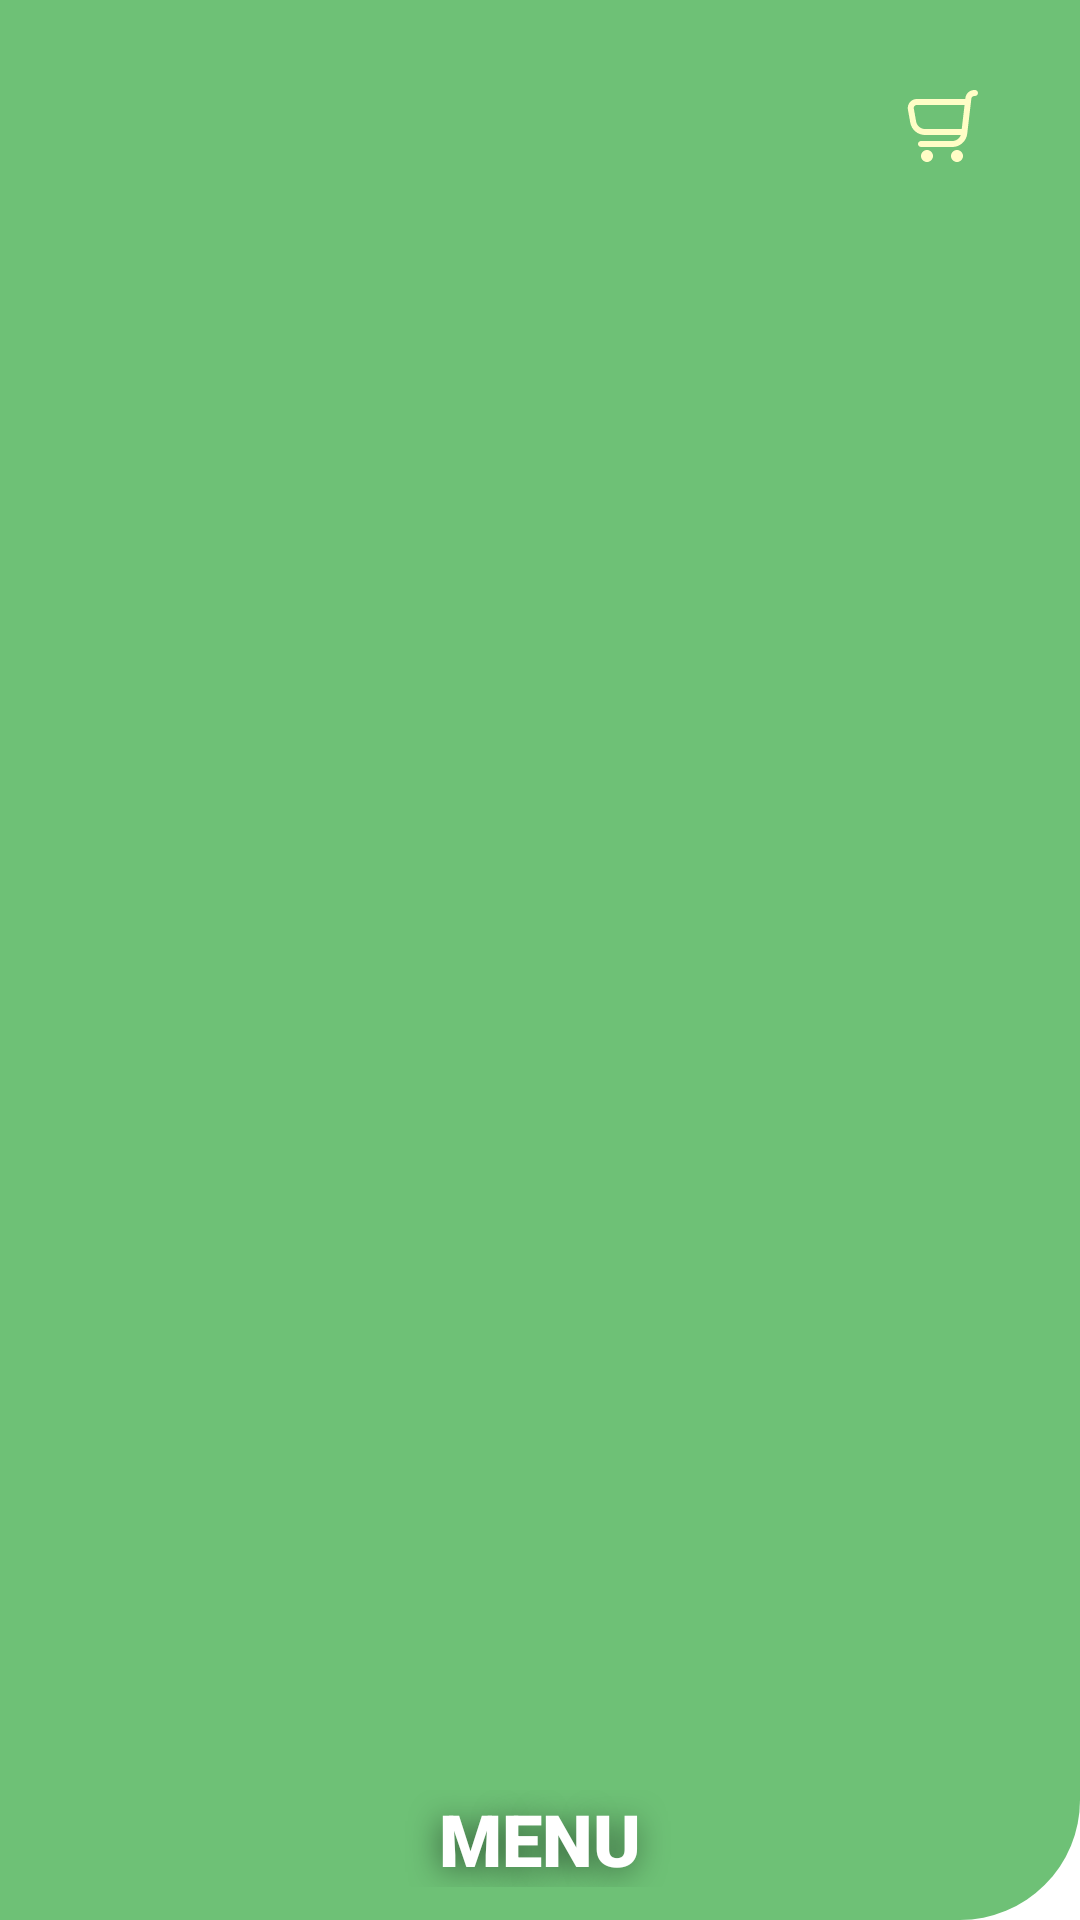

Icons on this 1080*1920 Android screen, each with the point to tap as (x=x, y=y):
shop: (x=942, y=126)
